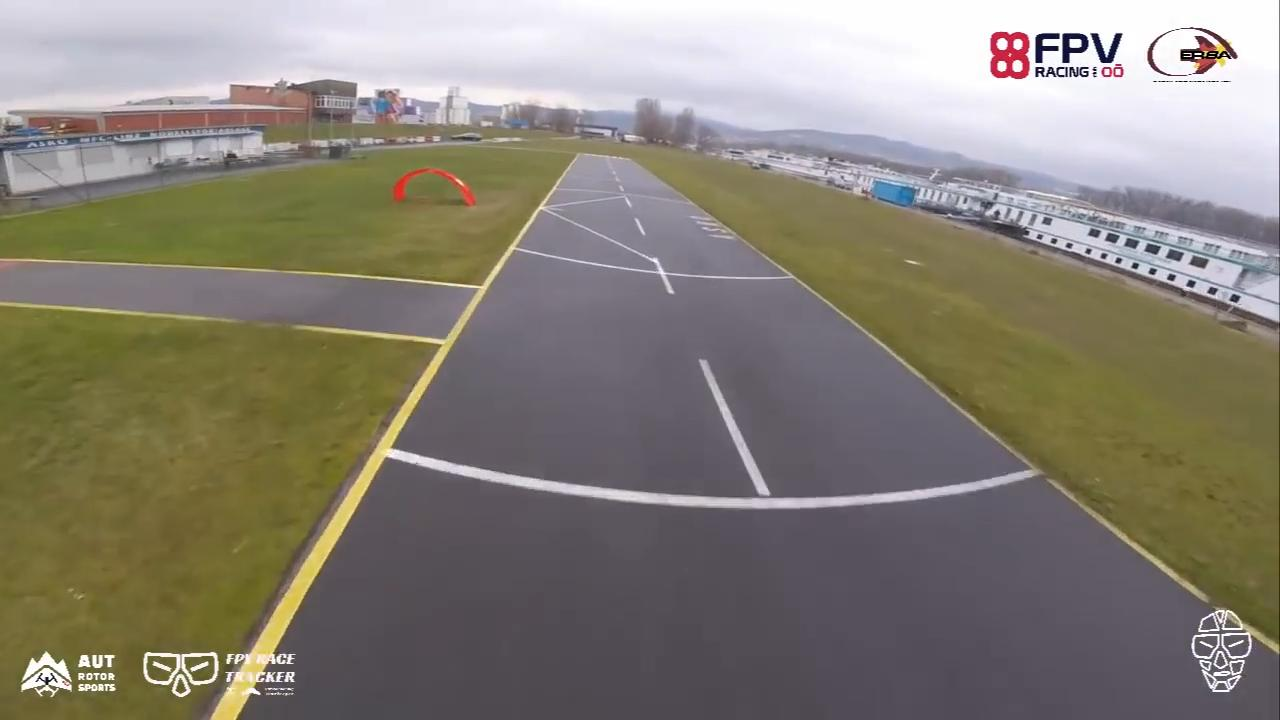gate: (391, 167, 472, 212)
